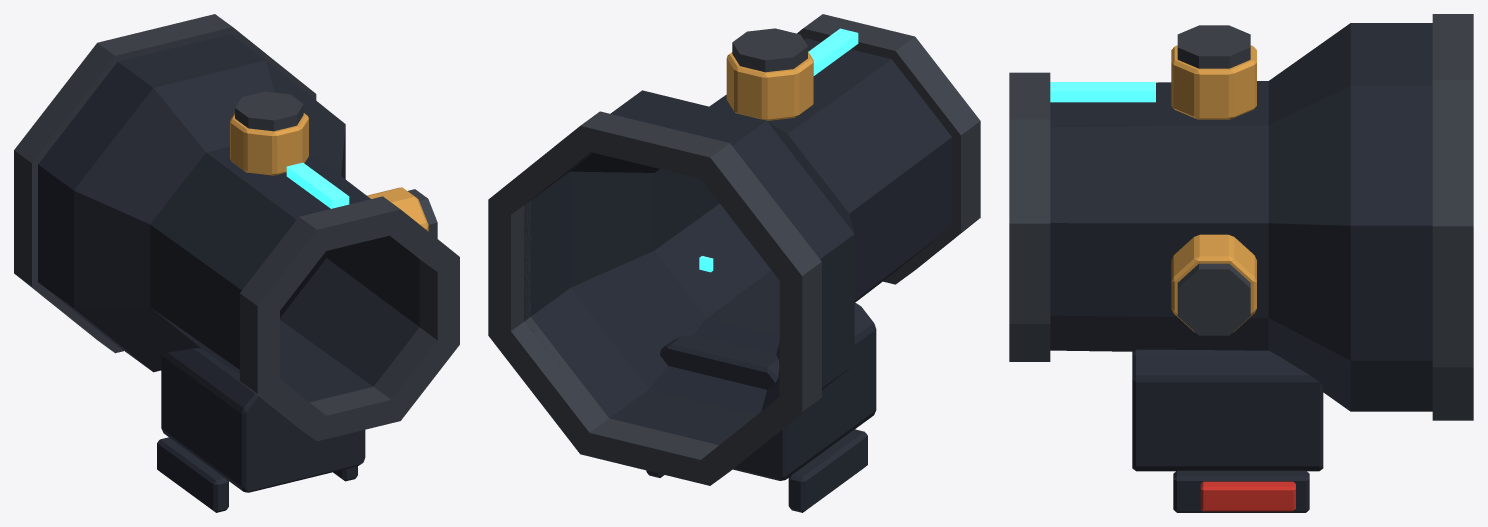
File: acog.glb
The picture shows the model from 3 angles, left to right: view 1: azimuth 30°, elevation 25°; view 2: azimuth 150°, elevation 25°; view 3: azimuth 270°, elevation 25°; orthographic projection. The views are drawn at different scales.
Parts seen in each view (by area): view 1: acog_tube, acog_rings, acog_mount, acog_turrets, acog_fiber; view 2: acog_tube, acog_rings, acog_mount, acog_turrets, acog_fiber; view 3: acog_tube, acog_rings, acog_mount, acog_turrets, acog_lever, acog_fiber.
Part boxes in pixels (left/top/right/bottom): acog_tube: left=38, top=34, right=419, bottom=402; acog_rings: left=14, top=14, right=459, bottom=441; acog_mount: left=157, top=348, right=365, bottom=512; acog_turrets: left=230, top=113, right=428, bottom=231; acog_fiber: left=286, top=162, right=349, bottom=208; acog_tube: left=524, top=38, right=951, bottom=444; acog_rings: left=488, top=14, right=980, bottom=485; acog_mount: left=646, top=303, right=876, bottom=512; acog_turrets: left=726, top=51, right=813, bottom=120; acog_fiber: left=808, top=28, right=858, bottom=75; acog_tube: left=1050, top=23, right=1432, bottom=411; acog_rings: left=1009, top=14, right=1473, bottom=420; acog_mount: left=1132, top=349, right=1323, bottom=512; acog_turrets: left=1171, top=45, right=1256, bottom=332; acog_lever: left=1200, top=481, right=1295, bottom=511; acog_fiber: left=1050, top=82, right=1155, bottom=102.
Bounding box in the file's own units: 0.057 × 0.07 × 0.068.
